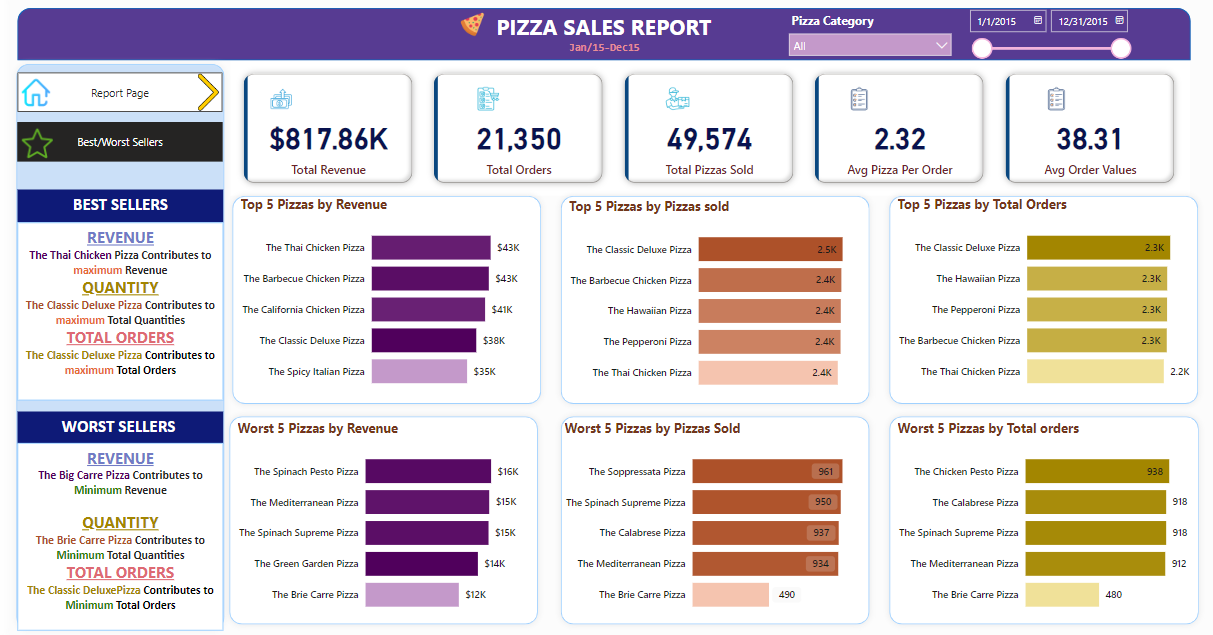

The dashboard page shown, as its layout file describes it:
{"tool":"powerbi","page":{"name":"Best/Worst Sellers","canvas":[1500,820],"ordinal":1},"visuals":[{"type":"cardVisual","fields":{"Data":["Measure Table.Total Revenue","Measure Table.Total Orders","Measure Table.Total sold","Measure Table.Avg Pizza Per Order","Measure Table.Avg Order Values"]},"box":[274.4,90.8,1194.3,168.3],"z":0},{"type":"shape","box":[9.3,25.8,1459.7,65.1],"z":1000},{"type":"textbox","box":[594,25.8,291.3,53.7],"z":2000},{"type":"textbox","box":[684.9,58.9,108.5,28.9],"z":3000},{"type":"image","box":[433.9,26.9,284.1,40.3],"z":4000},{"type":"shape","box":[269.6,252.1,400,274.8],"z":5000},{"type":"shape","box":[0,87.8,274.8,720],"z":6000},{"type":"textbox","box":[9.2,251.9,256,40.8],"z":7000},{"type":"textbox","box":[9.2,292.7,256,221.3],"z":8000},{"type":"textbox","box":[9.2,527.3,256,39.8],"z":9000},{"type":"textbox","box":[9.2,567.1,256,233.6],"z":10000},{"type":"slicer","fields":{"Values":["pizza_sales.pizza_category"]},"box":[958.7,25.8,222.1,64],"z":11000},{"type":"slicer","fields":{"Values":["pizza_sales.order_date"]},"box":[1181,19.4,222.3,71.4],"z":12000},{"type":"shape","box":[677.7,252.1,400,274.8],"z":13000},{"type":"shape","box":[1085.7,252.1,400,274.8],"z":14000},{"type":"shape","box":[265.5,526.9,399.8,274.8],"z":15000},{"type":"shape","box":[677.7,525.8,399.8,274.8],"z":16000},{"type":"shape","box":[1085.7,525.8,400.8,274.8],"z":17000},{"type":"barChart","title":"Top 5 Pizzas by Revenue","fields":{"Category":["pizza_sales.pizza_name"],"Y":["Measure Table.Total Revenue"]},"box":[282.7,259.3,373.8,254.7],"z":18000},{"type":"barChart","title":"Worst 5 Pizzas by Revenue","fields":{"Category":["pizza_sales.pizza_name"],"Y":["Measure Table.Total Revenue"]},"box":[278,537.4,373.8,254.7],"z":19000},{"type":"barChart","title":"Top 5 Pizzas by Pizzas sold","fields":{"Category":["pizza_sales.pizza_name"],"Y":["Measure Table.Total Pizzas Sold"]},"box":[690.4,261.7,373.8,254.7],"z":20000},{"type":"barChart","title":"Worst 5 Pizzas by Pizzas Sold","fields":{"Category":["pizza_sales.pizza_name"],"Y":["Measure Table.Total Pizzas Sold"]},"box":[684.6,537.4,379.7,254.7],"z":21000},{"type":"barChart","title":"Worst 5 Pizzas by Total orders","fields":{"Category":["pizza_sales.pizza_name"],"Y":["Measure Table.Total Orders"]},"box":[1099.3,537.4,373.8,254.7],"z":22000},{"type":"barChart","title":"Top 5 Pizzas by Total Orders","fields":{"Category":["pizza_sales.pizza_name"],"Y":["Measure Table.Total Orders"]},"box":[1099.3,259.3,373.8,254.7],"z":23000},{"type":"pageNavigator","box":[9.2,106.1,256,50],"z":23001},{"type":"image","box":[9.2,106.1,45.9,50],"z":23002},{"type":"image","box":[218.3,103,56.1,56.1],"z":23003},{"type":"pageNavigator","box":[9.2,168.3,256,50],"z":23004},{"type":"image","box":[9.2,169.3,49,49],"z":23005}]}

Visuals, with their boxes on the page's 1500x820 design canvas (x1, y1, x2, y2). These are canvas units, not pixel positions in the 1213x635 screenshot, which may show the page scaled, cropped or inside an application window:
cardVisual - Measure Table.Total Revenue x Measure Table.Total Orders: l=274, t=91, r=1469, b=259
shape: l=9, t=26, r=1469, b=91
textbox: l=594, t=26, r=885, b=80
textbox: l=685, t=59, r=793, b=88
image: l=434, t=27, r=718, b=67
shape: l=270, t=252, r=670, b=527
shape: l=0, t=88, r=275, b=808
textbox: l=9, t=252, r=265, b=293
textbox: l=9, t=293, r=265, b=514
textbox: l=9, t=527, r=265, b=567
textbox: l=9, t=567, r=265, b=801
slicer - pizza_sales.pizza_category: l=959, t=26, r=1181, b=90
slicer - pizza_sales.order_date: l=1181, t=19, r=1403, b=91
shape: l=678, t=252, r=1078, b=527
shape: l=1086, t=252, r=1486, b=527
shape: l=266, t=527, r=665, b=802
shape: l=678, t=526, r=1078, b=801
shape: l=1086, t=526, r=1486, b=801
"Top 5 Pizzas by Revenue" barChart: l=283, t=259, r=656, b=514
"Worst 5 Pizzas by Revenue" barChart: l=278, t=537, r=652, b=792
"Top 5 Pizzas by Pizzas sold" barChart: l=690, t=262, r=1064, b=516
"Worst 5 Pizzas by Pizzas Sold" barChart: l=685, t=537, r=1064, b=792
"Worst 5 Pizzas by Total orders" barChart: l=1099, t=537, r=1473, b=792
"Top 5 Pizzas by Total Orders" barChart: l=1099, t=259, r=1473, b=514
pageNavigator: l=9, t=106, r=265, b=156
image: l=9, t=106, r=55, b=156
image: l=218, t=103, r=274, b=159
pageNavigator: l=9, t=168, r=265, b=218
image: l=9, t=169, r=58, b=218
